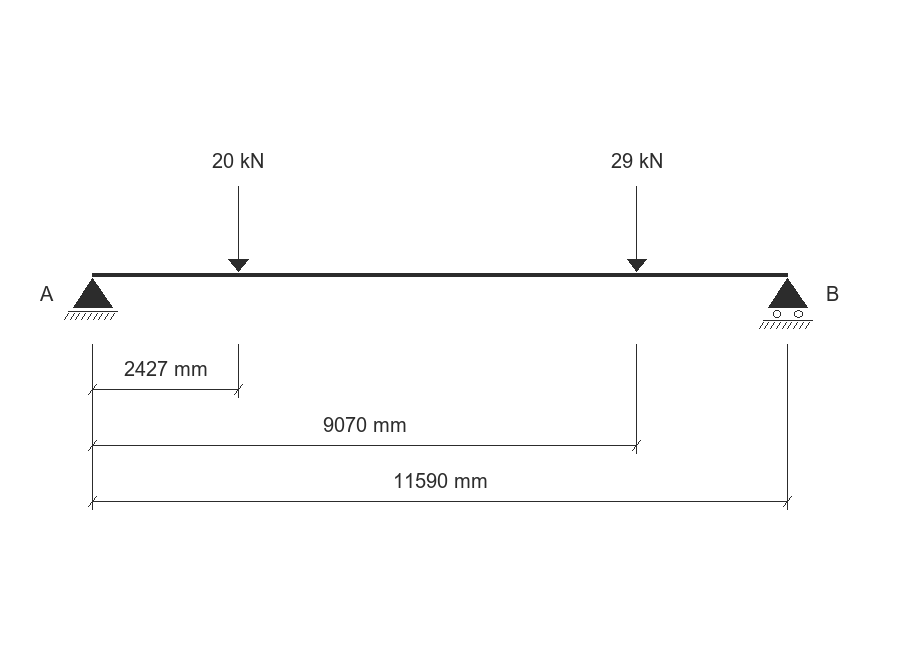pin_support: (64, 278, 118, 320)
point_load: (228, 186, 249, 272), (627, 186, 647, 272)
roller_support: (759, 278, 813, 329)
